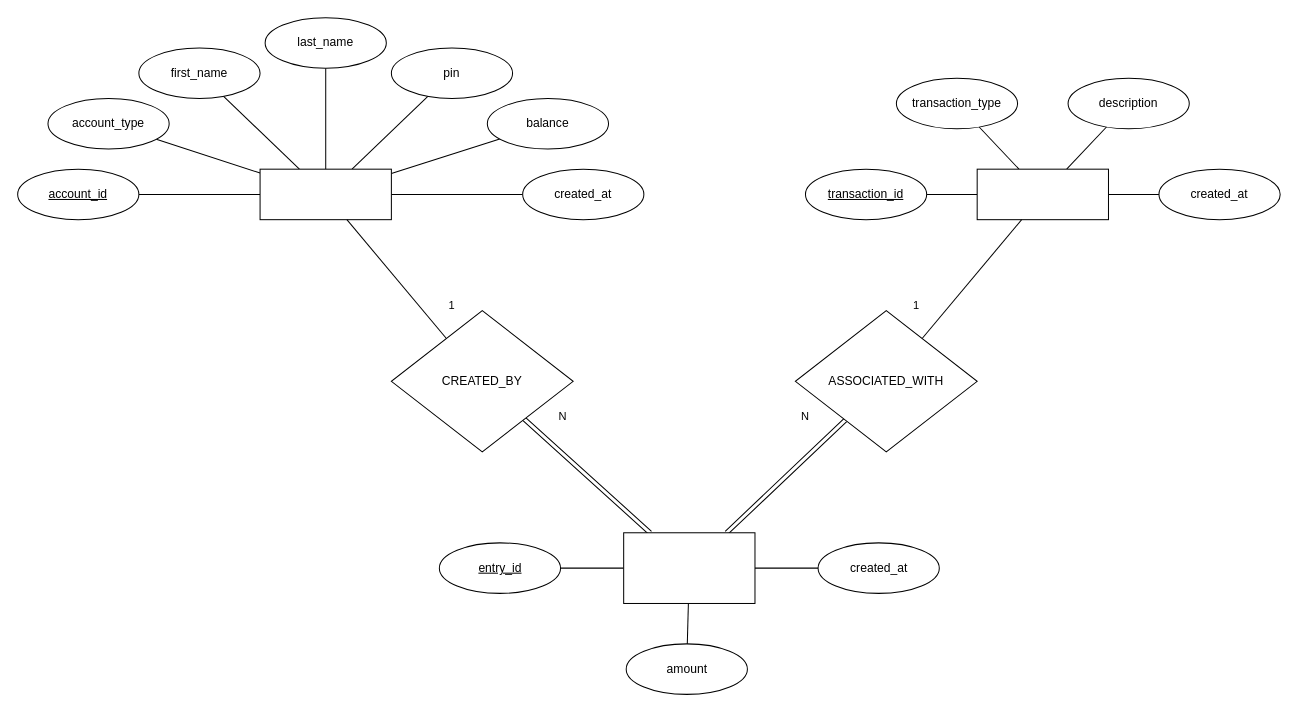
This 1298x712 diagram has some shape labels left out. Here are the shapes that lost their labels. From the top down, the centre of each, then its label:
(325,194): ACCOUNT
(1042,194): TRANSACTION
(689,567): LEDGER_ENTRY
